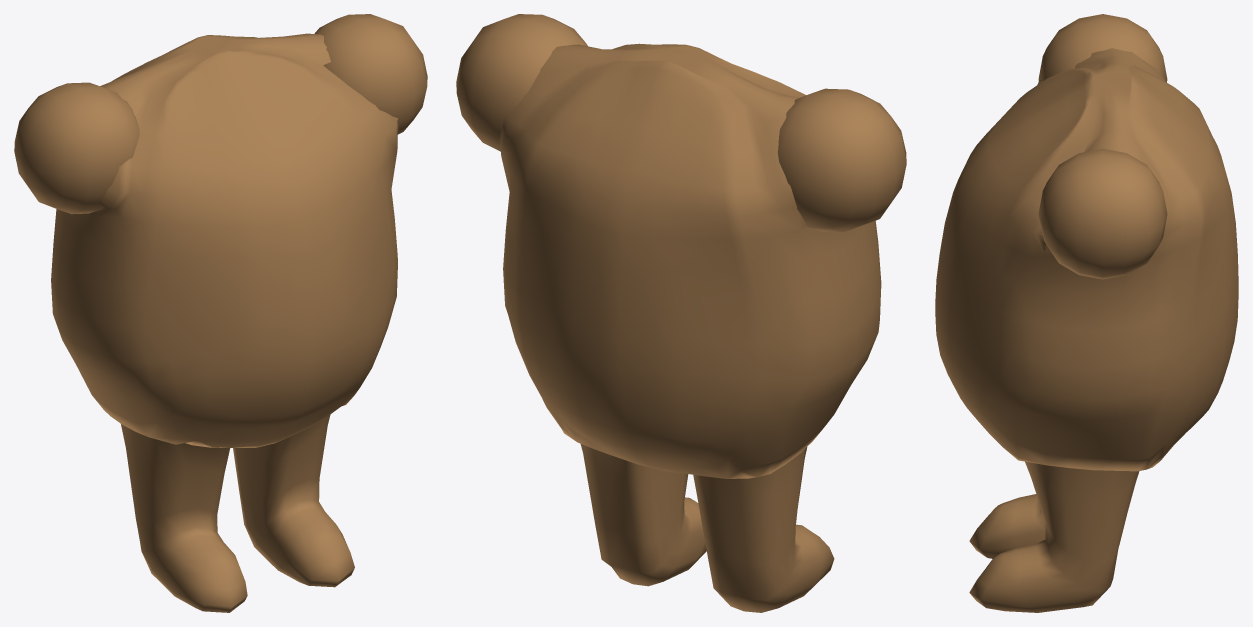
The model's file is Frinchfry_body.fbx.
The picture shows the model from 3 angles, left to right: view 1: azimuth 30°, elevation 25°; view 2: azimuth 150°, elevation 25°; view 3: azimuth 270°, elevation 25°; orthographic projection. The views are drawn at different scales.
Parts seen in each view (by area): view 1: Body; view 2: Body; view 3: Body.
Boxes of the visible parts, x1=… form: Body: x1=14, y1=14, x2=427, y2=612; Body: x1=456, y1=14, x2=906, y2=612; Body: x1=935, y1=14, x2=1238, y2=612.
Bounding box in the file's own units: 122 × 152 × 82.97.
